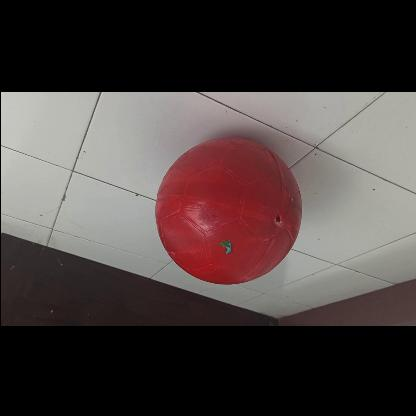red_ball: (148, 136, 300, 286)
